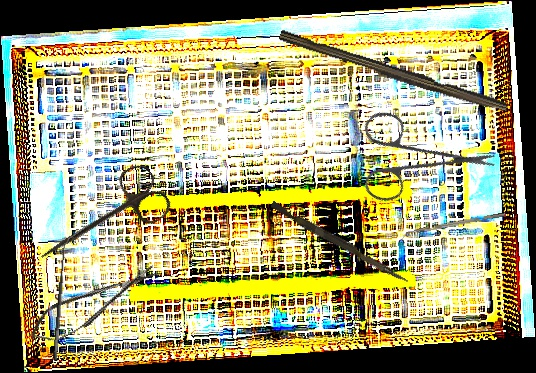Chopper: (400, 212, 507, 240)
Hook Surgical: (43, 238, 70, 361)
Iris Scissors: (331, 73, 500, 242), (26, 159, 176, 285)
Micro Scissor: (22, 257, 166, 351)
Pusher: (268, 201, 412, 284)
Scalpel Handle: (276, 29, 510, 117)
